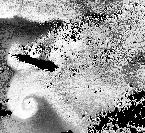CE: (6, 95, 39, 121)
